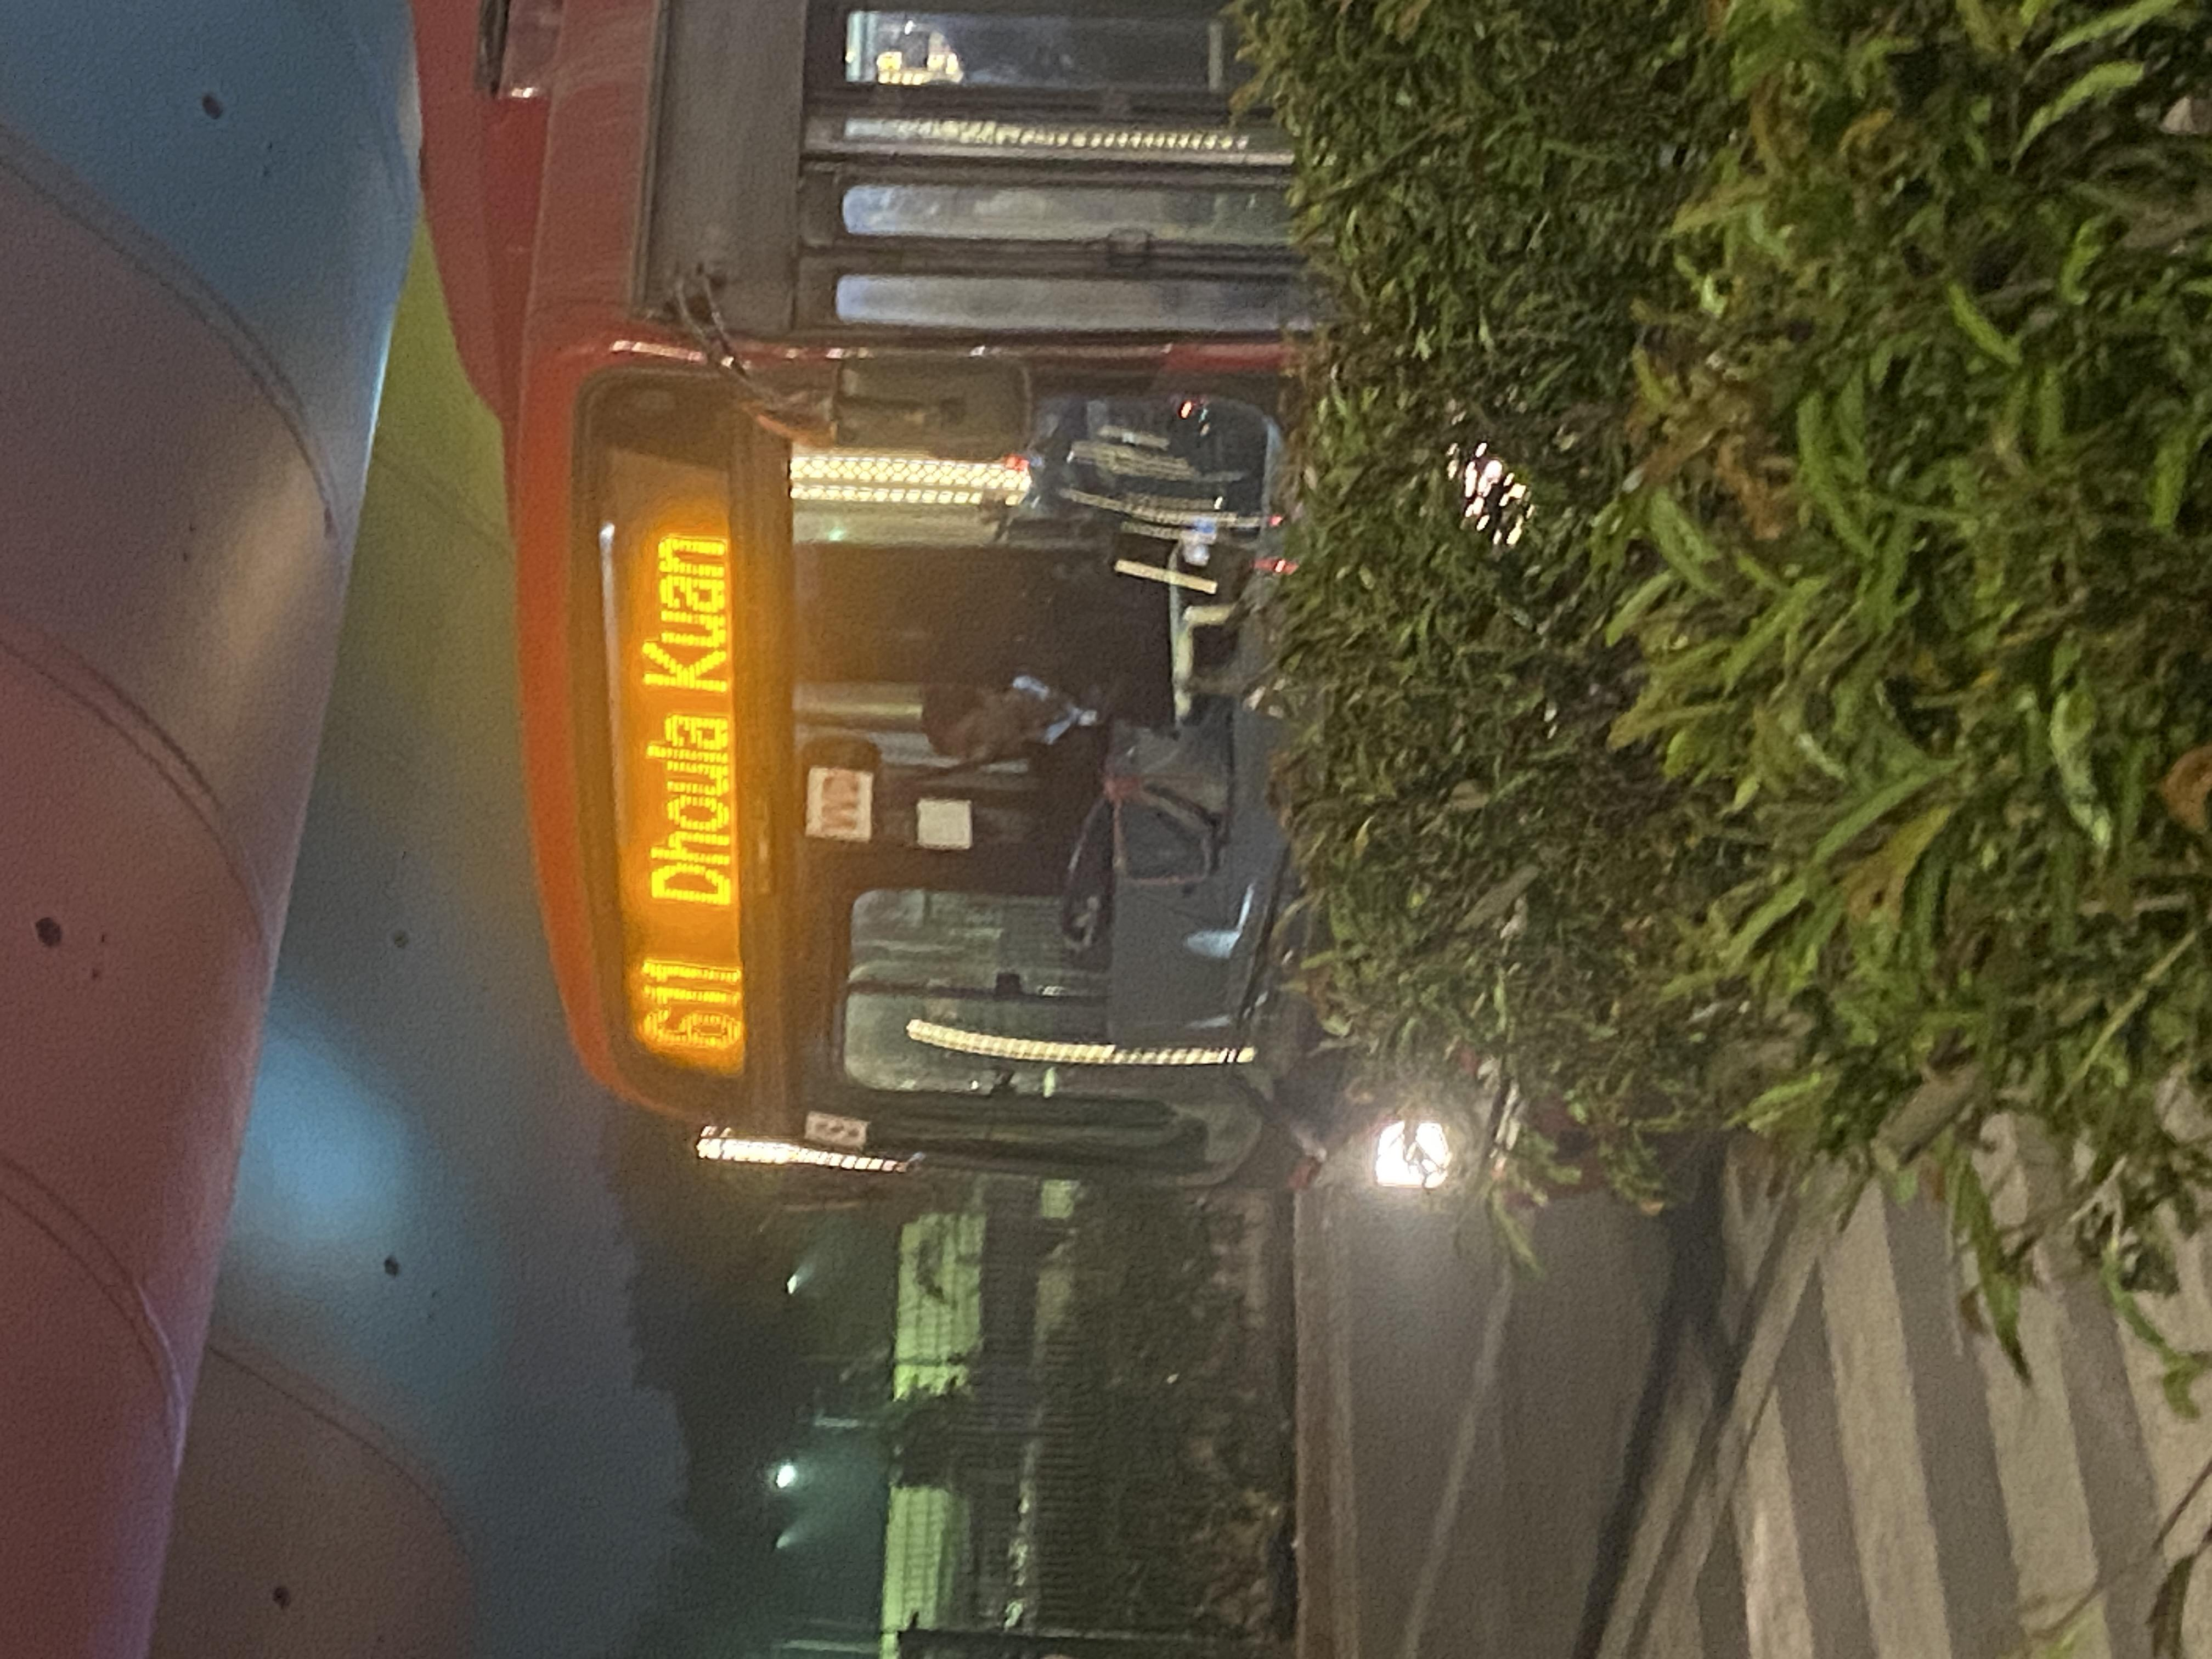Bus: (493, 286, 1531, 1201)
Display Board: (577, 362, 812, 1195)
